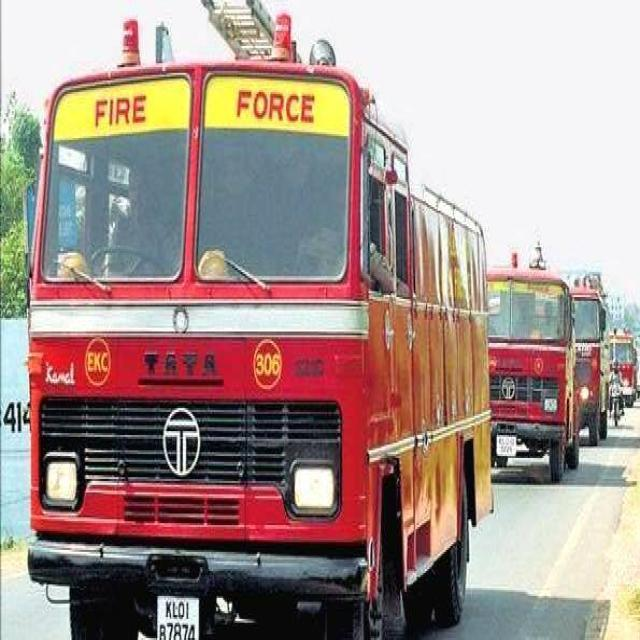Ambulance: (21, 6, 495, 636), (1, 390, 638, 636), (418, 393, 638, 636), (484, 242, 581, 484), (568, 271, 611, 448)
